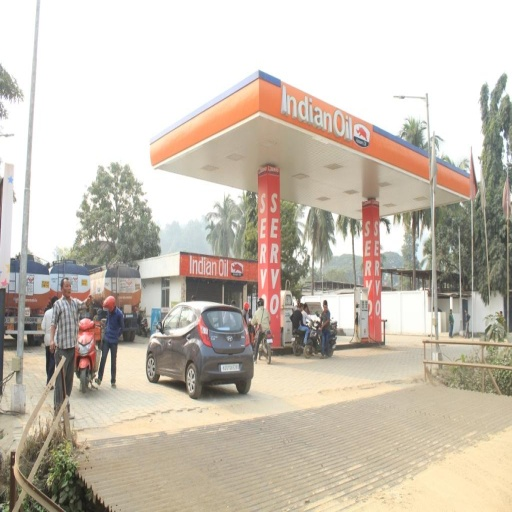roof: (150, 63, 474, 220)
